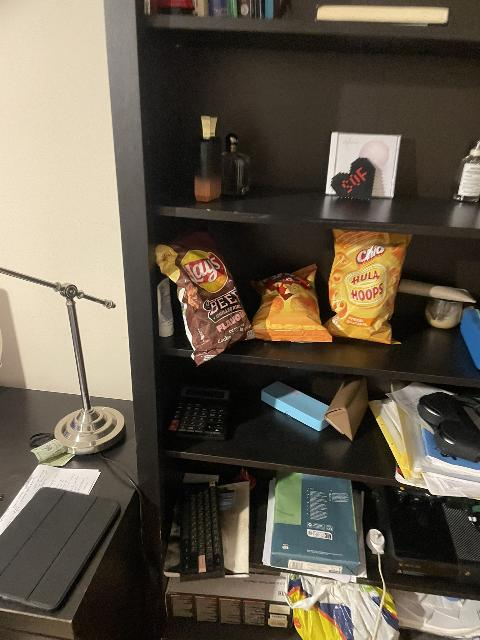Chio Cascaval 125g: (248, 265, 325, 345)
Chio Hula Hoops Cheese 70g: (327, 231, 413, 344)
Lays Beef Grilled Ribs 125g: (157, 230, 254, 360)
